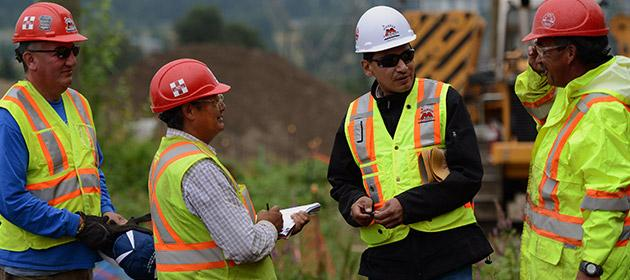helmet: (150, 59, 231, 109), (524, 2, 611, 40), (15, 2, 89, 46), (355, 6, 419, 56)
